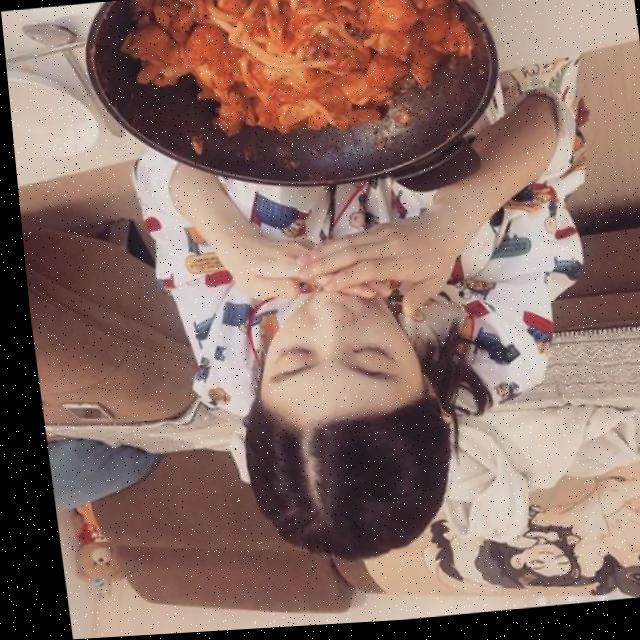eating-person: (34, 0, 635, 603)
